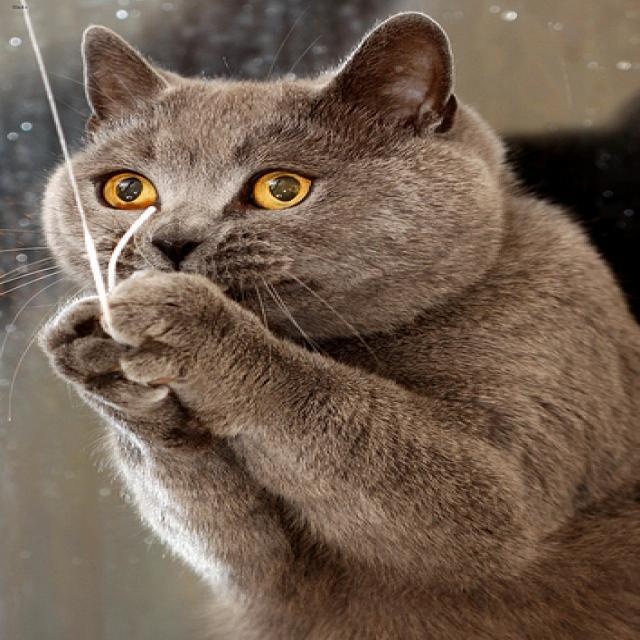British_Shorthair: (35, 8, 515, 341)
